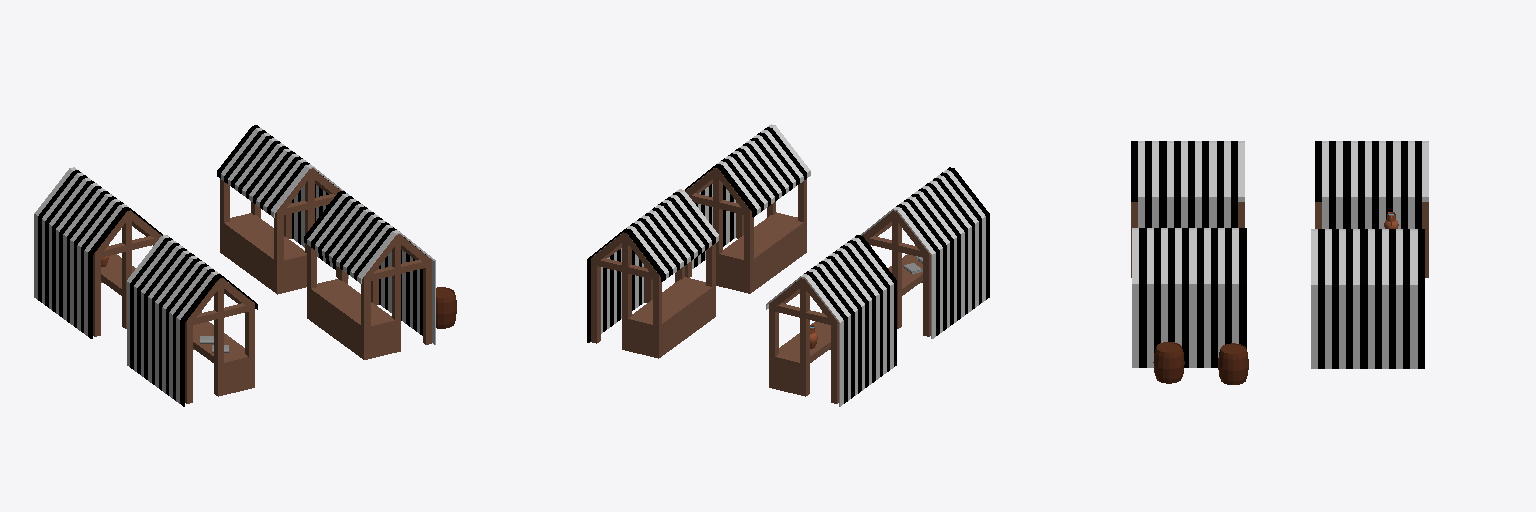
Rendered from market_black_white.obj.
3 views of the same model, side by side, from view 1: azimuth 30°, elevation 25°; view 2: azimuth 150°, elevation 25°; view 3: azimuth 270°, elevation 25° (orthographic).
Parts seen in each view (by area): view 1: Cube.060_Cube.235, Cube.156_Cube.225, Cube.052_Cube.004, Cube.056_Cube.178, Cube.147_Cube.153, Cube.001_Cube.064, Barrel1.001; view 2: Cube.156_Cube.225, Cube.060_Cube.235, Cube.056_Cube.178, Cube.052_Cube.004, Cube.001_Cube.064, Cube.147_Cube.153, Cube.025_Cube.001, Cube.057_Cube.179; view 3: Cube.156_Cube.225, Cube.060_Cube.235, Cube.001_Cube.064, Cube.147_Cube.153, Barrel1.001, Barrel1.
Part boxes in pixels (bbox=[...]): Cube.060_Cube.235: bbox=[127, 235, 257, 406]; Cube.156_Cube.225: bbox=[34, 167, 162, 338]; Cube.052_Cube.004: bbox=[309, 234, 431, 359]; Cube.056_Cube.178: bbox=[222, 168, 340, 294]; Cube.147_Cube.153: bbox=[379, 250, 435, 344]; Cube.001_Cube.064: bbox=[292, 184, 348, 278]; Barrel1.001: bbox=[436, 287, 456, 328]; Cube.156_Cube.225: bbox=[766, 235, 896, 406]; Cube.060_Cube.235: bbox=[861, 167, 989, 338]; Cube.056_Cube.178: bbox=[591, 232, 715, 356]; Cube.052_Cube.004: bbox=[685, 168, 806, 292]; Cube.001_Cube.064: bbox=[587, 248, 643, 342]; Cube.147_Cube.153: bbox=[692, 184, 735, 268]; Cube.025_Cube.001: bbox=[744, 210, 753, 293]; Cube.057_Cube.179: bbox=[653, 275, 661, 358]; Cube.156_Cube.225: bbox=[1315, 141, 1428, 277]; Cube.060_Cube.235: bbox=[1131, 141, 1244, 277]; Cube.001_Cube.064: bbox=[1311, 285, 1424, 368]; Cube.147_Cube.153: bbox=[1132, 284, 1246, 367]; Barrel1.001: bbox=[1153, 342, 1184, 383]; Barrel1: bbox=[1218, 343, 1248, 384].
Bounding box in the file's own units: 9.51 × 3.73 × 8.36.